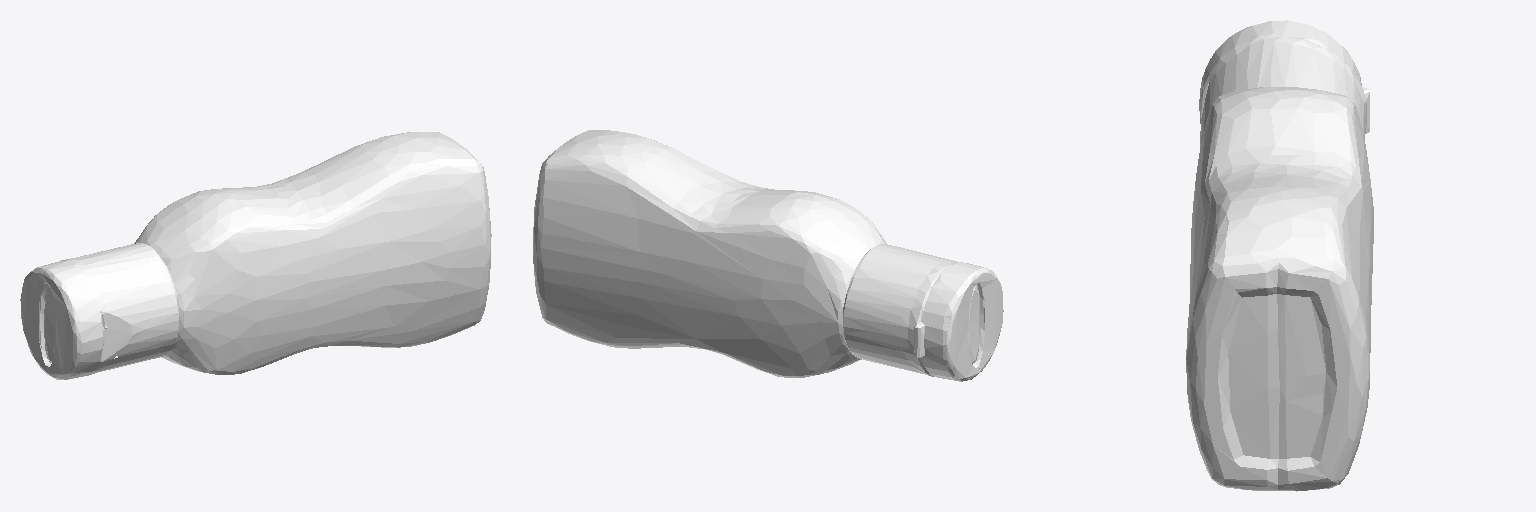
robot.urdf — myfirst:
<?xml version="1.0"?>
 <robot name="myfirst">
   <material name="light_green">
     <color rgba="0 1 0.498 1"/>
   </material>
   <material name="coral">
     <color rgba="1 0.498 0.3137 1"/>
   </material>
   <link name="Mayo">
     <visual>
       <geometry>
         <!-- <box size="0.16 0.21343700408935547 0.061"/> -->
         <mesh filename="Mayo.obj" scale="0.5 0.5 0.5"/>
       </geometry>
       <!-- <material name="light_green"/> -->
       <material name="white">
         <color rgba="1. 1. 1. 1."/>
       </material>
       <origin xyz="0 0 0" rpy="0 0 0"/>
     </visual>
     <inertial>
       <mass value="0.5"/>
       <inertia ixx="1.0" ixy="0.0" ixz="0.0" iyy="1.0" iyz="0.0" izz="1.0"/>
     </inertial>
     <collision>
       <geometry>
         <mesh filename="Mayo.obj" scale="1 1 1"/>
       </geometry>
       <origin xyz="0 0 0" rpy="0 0 0"/>
     </collision>
   </link>
   
 </robot>

--- What the picture shows (computed from the rendered views, not written in the file) ---
The picture shows the robot from 3 angles, left to right: view 1: azimuth 30°, elevation 25°; view 2: azimuth 150°, elevation 25°; view 3: azimuth 270°, elevation 25°; orthographic projection.
Robot: myfirst — 1 links, 0 joints (none); root link Mayo; default pose: all joints at 0.
Visible links, largest first — view 1: Mayo; view 2: Mayo; view 3: Mayo.
Boxes of the visible links, <box> form: Mayo: <box>20,132,491,379</box>; Mayo: <box>533,130,1003,381</box>; Mayo: <box>1186,20,1373,491</box>.
Size in the robot's own frame: 0.074 by 0.0205 by 0.0323 metres.
1 mesh visuals loaded from 1 distinct referenced files (1 OBJ).
